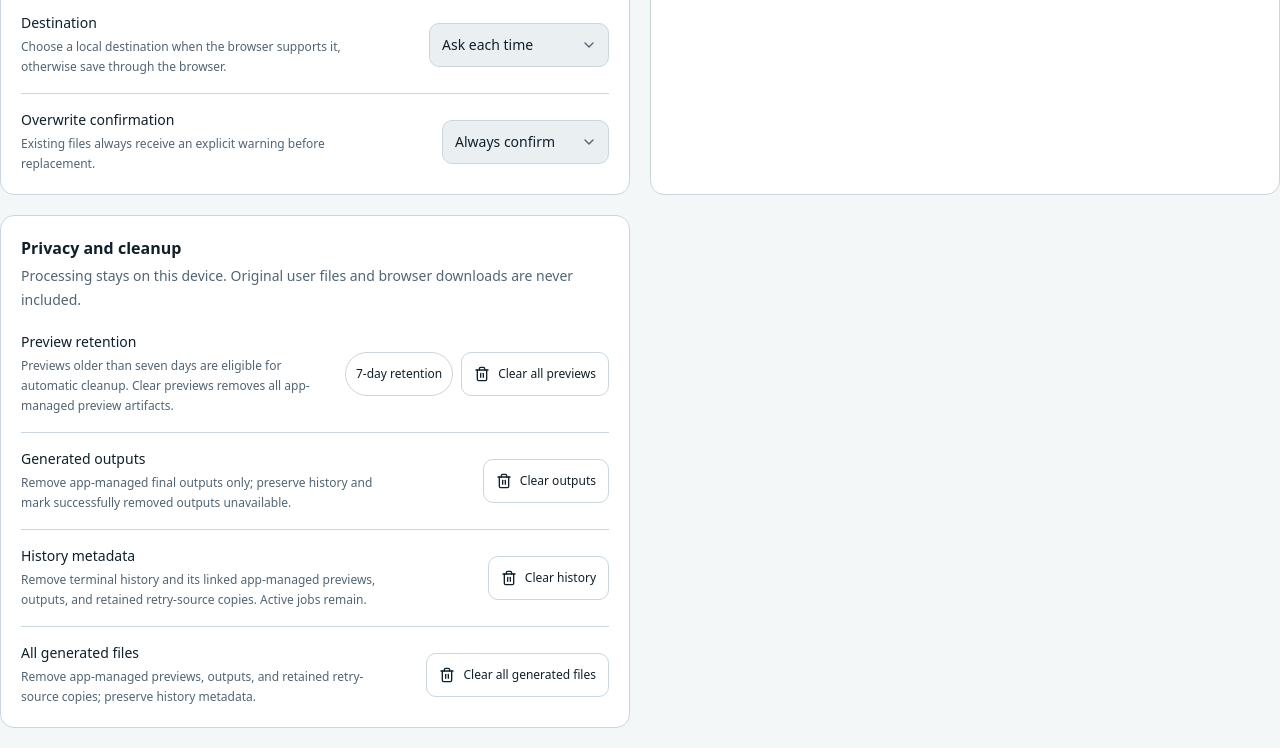
Test: settings panel › clears orphaned app-managed retry copies in the all-generated-files scope
(page scrolled)
Click the button "Clear all generated files".
click(518, 675)  # box x1=426 y1=653 x2=609 y2=697
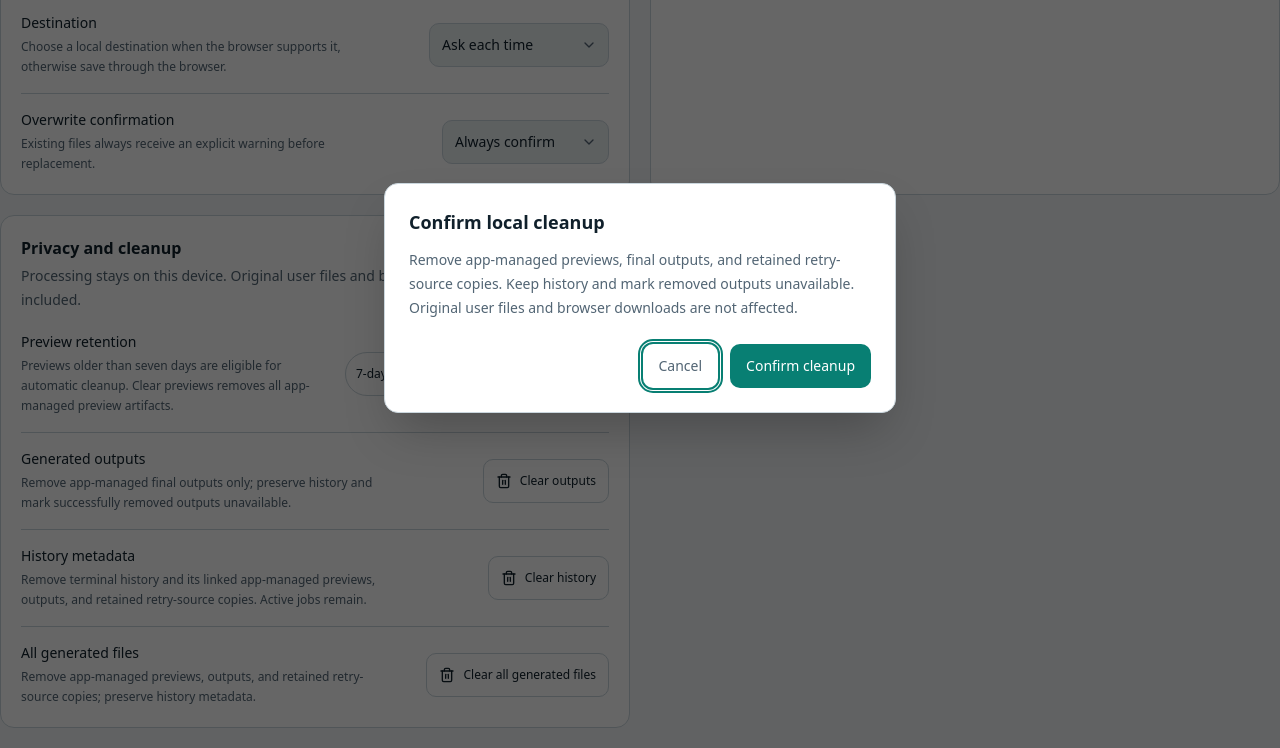
Check: the dialog shows "retained retry-source copies", box x1=409 y1=250 x2=854 y2=293
Click the button "Confirm cleanup".
click(801, 366)  # box x1=730 y1=344 x2=871 y2=388
(page scrolled)
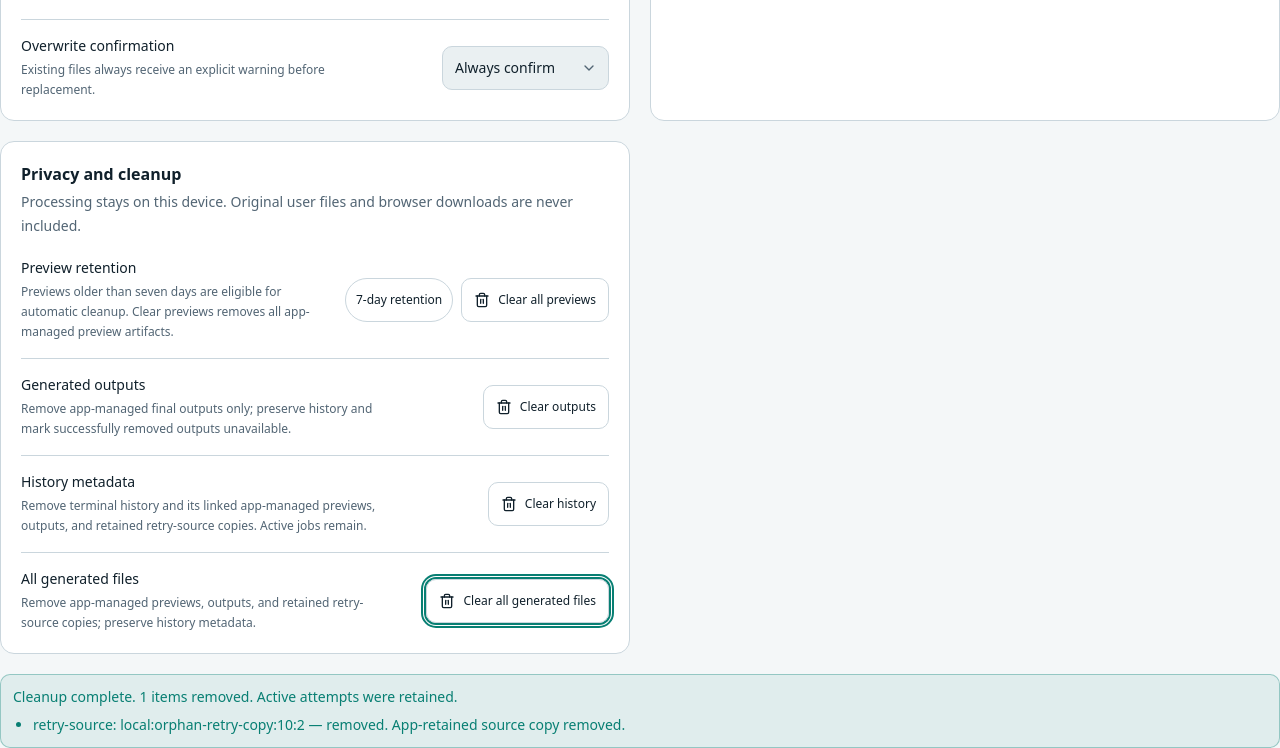
Check: the text "Cleanup complete. 1 items removed. Active attempts were retained." is shown, box x1=13 y1=687 x2=458 y2=706
